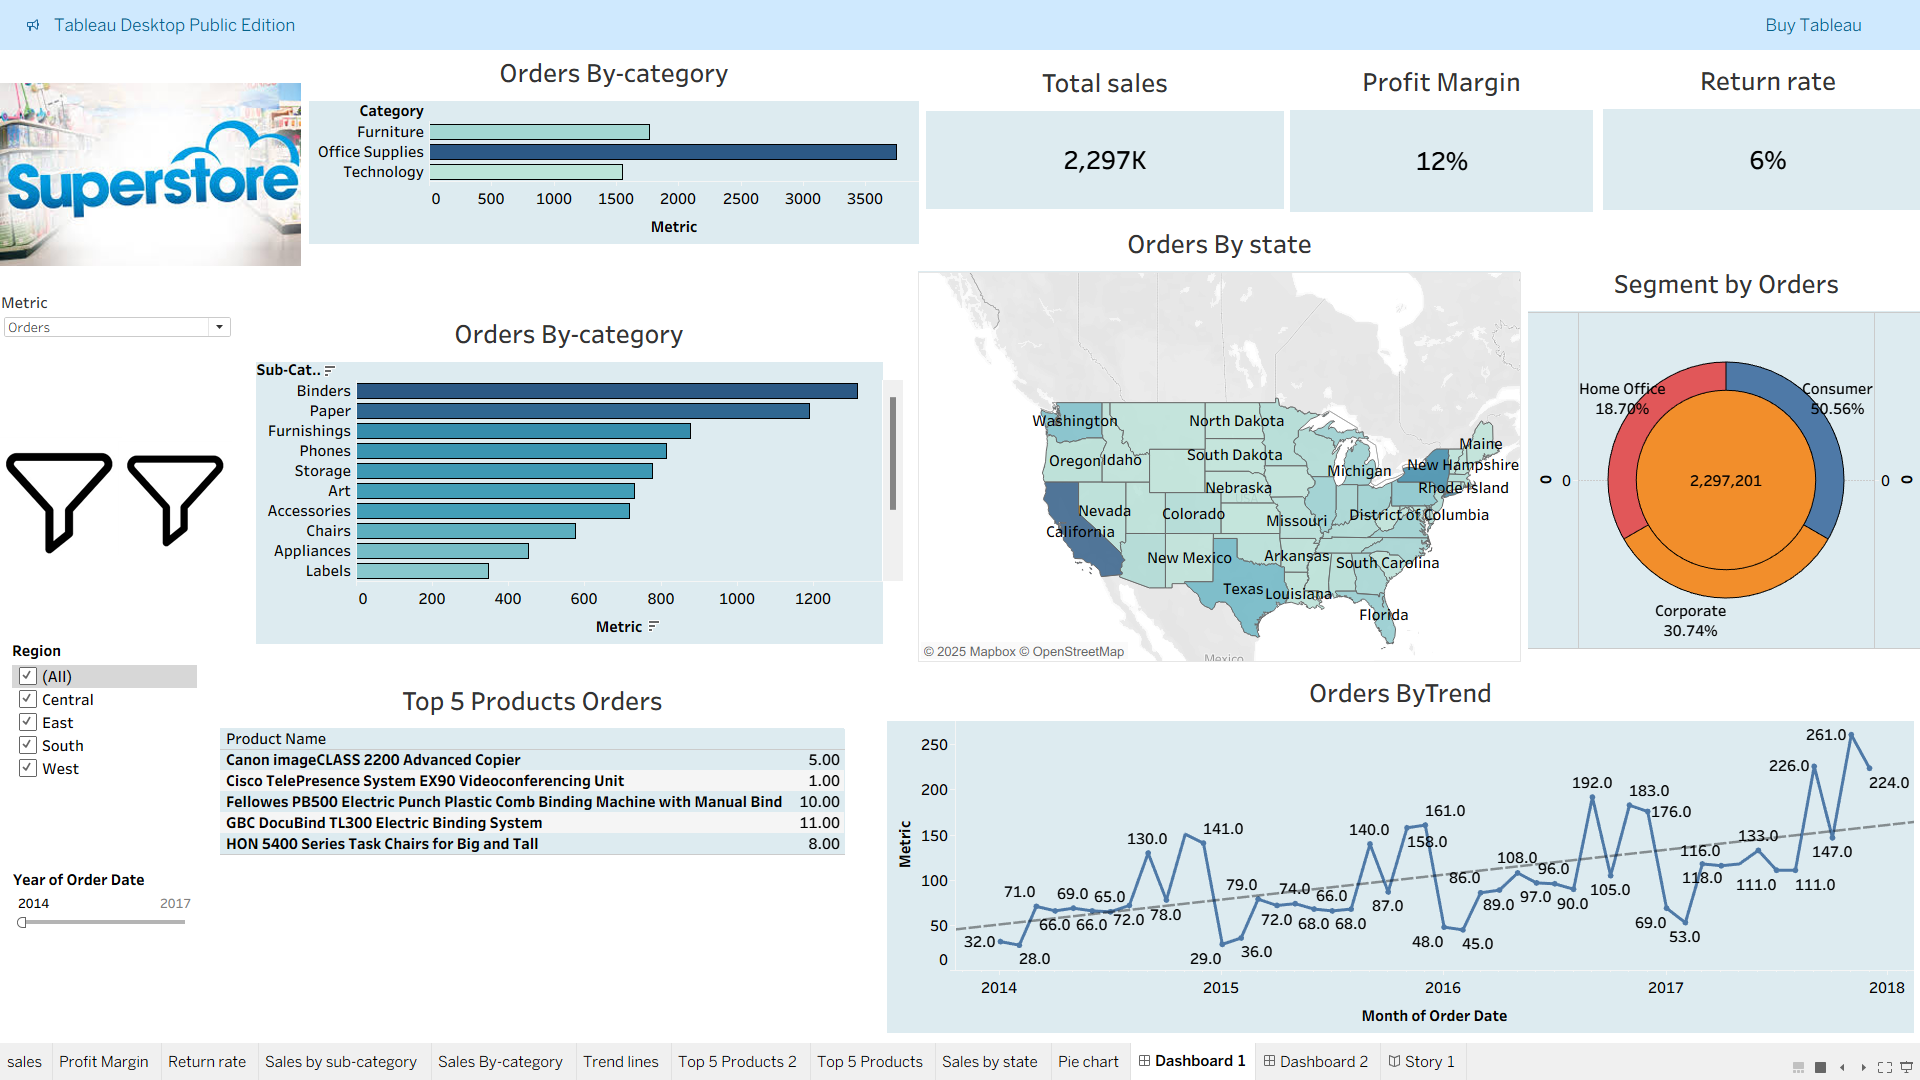

The dashboard page shown, as its layout file describes it:
{"tool":"tableau","page":{"name":"Dashboard 2","canvas":[1000,1000],"units":"permille","ordinal":1},"visuals":[{"type":"worksheet","title":"Return rate","mark":"Automatic","box":[4.9,10,223.2,326.7]},{"type":"worksheet","title":"sales","mark":"Automatic","box":[228.1,10,223.2,326.7]},{"type":"filter","title":"Sales by state","param":"[federated.14tplzz0boe7fr1fa4khw06nzmy5].[none:Region:nk]","box":[451.2,10,223.2,326.7]},{"type":"worksheet","title":"Profit Margin","mark":"Automatic","box":[674.4,10,223.2,326.7]},{"type":"parameter","param":"[Parameters].[Parameter 1]","box":[897.6,10,97.6,69.9]},{"type":"legend","title":"Sales by state","param":"[federated.14tplzz0boe7fr1fa4khw06nzmy5].[sum:Sales:qk]","box":[897.6,79.9,97.6,91.1]},{"type":"legend","title":"Pie chart","param":"[federated.14tplzz0boe7fr1fa4khw06nzmy5].[:Measure Names]","box":[897.6,171.1,97.6,63.7]},{"type":"legend","title":"Pie chart","param":"[federated.14tplzz0boe7fr1fa4khw06nzmy5].[none:Segment:nk]","box":[897.6,234.7,97.6,116.1]},{"type":"worksheet","title":"Sales By-category","mark":"Automatic","rows":["Category"],"cols":["Calculation_923800930018168835"],"box":[4.9,336.7,446.3,165]},{"type":"worksheet","title":"Sales by state","mark":"Multipolygon","box":[451.2,336.7,446.3,165]},{"type":"worksheet","title":"Top 5 Products","mark":"Automatic","box":[4.9,501.7,446.3,165]},{"type":"worksheet","title":"Trend lines","mark":"Automatic","rows":["Calculation_923800930018168835"],"cols":["Order Date"],"box":[451.2,501.7,446.3,165]},{"type":"worksheet","title":"Sales by sub-category","mark":"Automatic","rows":["Sub-Category"],"cols":["Calculation_923800930018168835"],"box":[4.9,666.7,446.3,323.3]},{"type":"worksheet","title":"Pie chart","mark":"Pie","rows":["Calculation_923800930026479621","Calculation_923800930026516487"],"box":[451.2,666.7,446.3,323.3]}]}

Visuals, with their boxes on the dashboard's canvas, which has no fixed pixel size, in thousandths of its width and height (x1, y1, x2, y2). These are canvas units, not pixel positions in the 1920x1080 screenshot, which may show the page scaled, cropped or inside an application window:
"Return rate" worksheet: (5,10,228,337)
"sales" worksheet: (228,10,451,337)
"Sales by state" filter: (451,10,674,337)
"Profit Margin" worksheet: (674,10,898,337)
parameter: (898,10,995,80)
"Sales by state" legend: (898,80,995,171)
"Pie chart" legend: (898,171,995,235)
"Pie chart" legend: (898,235,995,351)
"Sales By-category" worksheet: (5,337,451,502)
"Sales by state" worksheet (Multipolygon marks): (451,337,898,502)
"Top 5 Products" worksheet: (5,502,451,667)
"Trend lines" worksheet: (451,502,898,667)
"Sales by sub-category" worksheet: (5,667,451,990)
"Pie chart" worksheet (Pie marks): (451,667,898,990)
